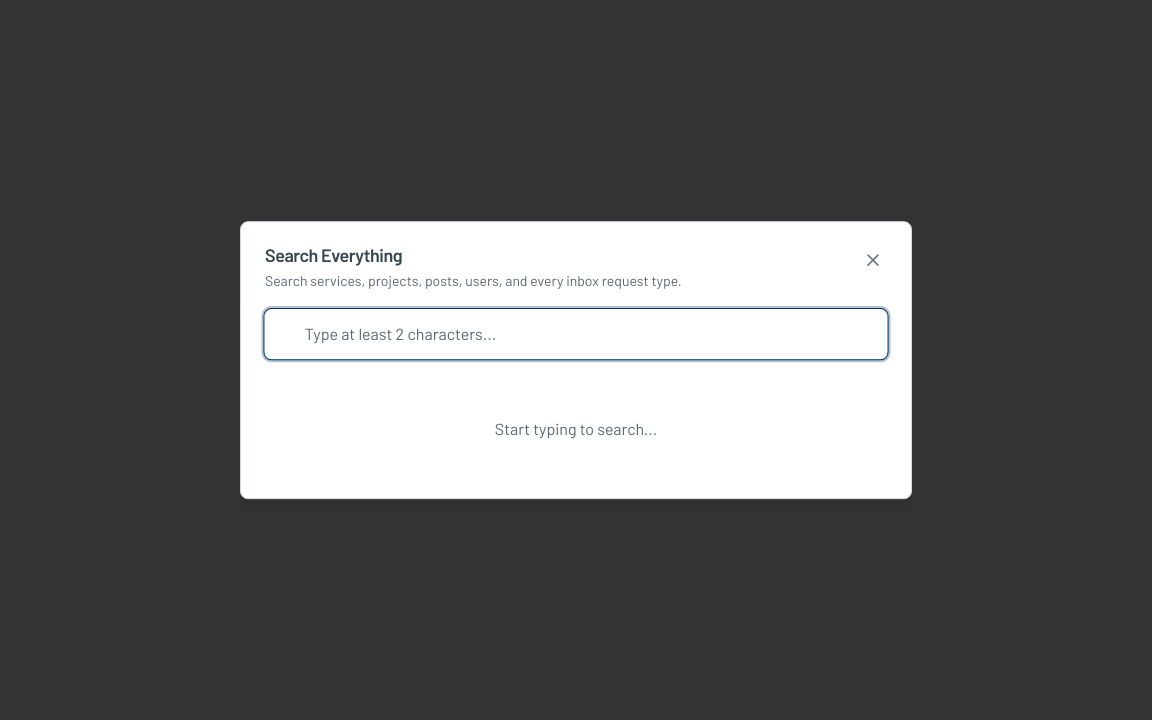
Test: shared global search dialog › ignores an older completed search and aborts it when the query changes
Type "Old query" into the field named "Search admin content and inquiries" at (576, 334), box top-left (263, 308), bottom-right (888, 360)
Wait 301 ms
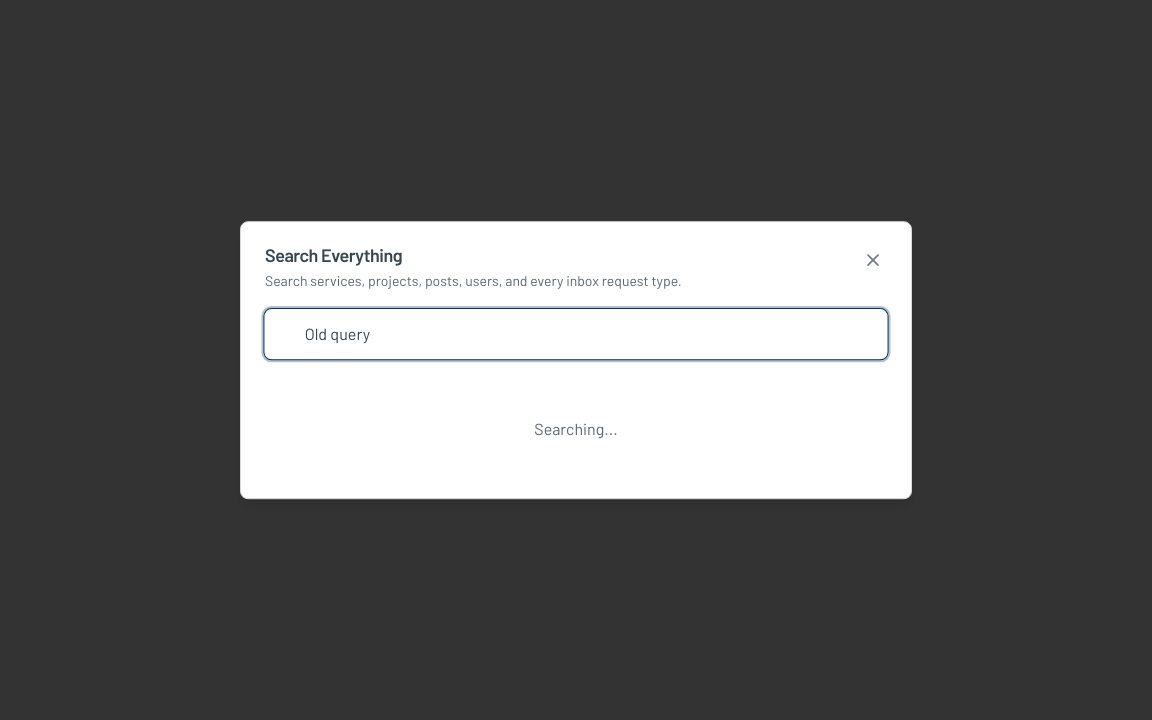
Replace the text in the field named "Search admin content and inquiries" with "New query" at (576, 334), box top-left (263, 308), bottom-right (888, 360)
Wait 301 ms
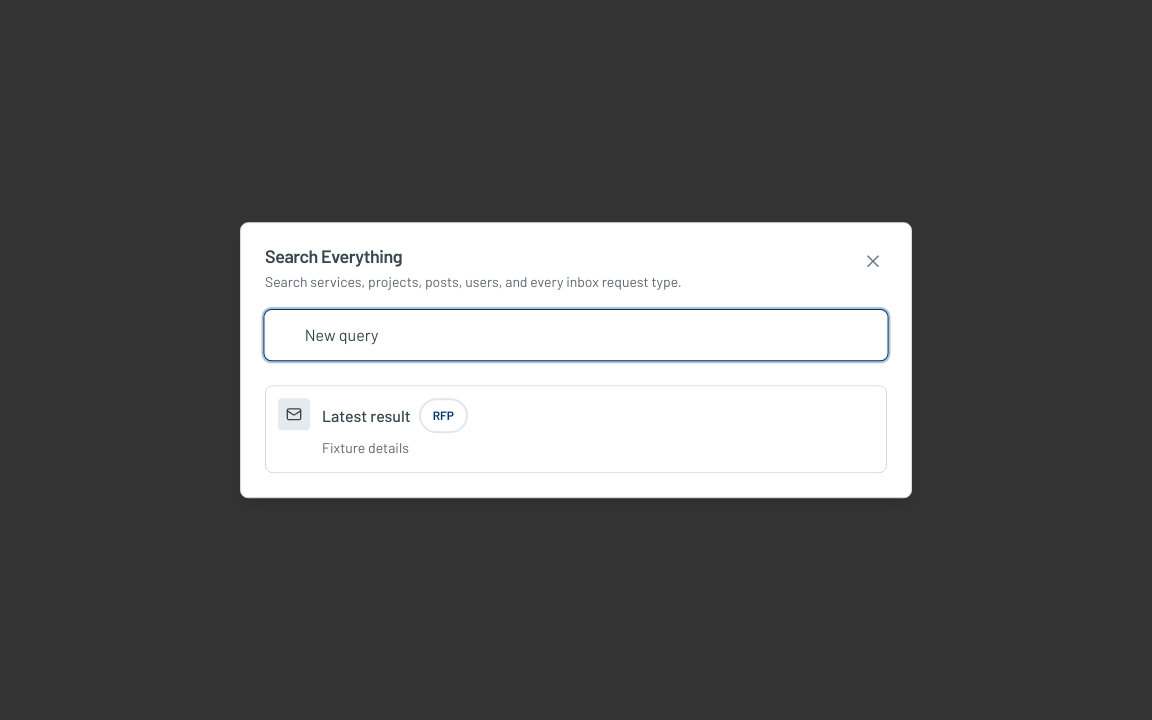
Now the text "Latest result" is shown, box top-left (322, 403), bottom-right (411, 429)
